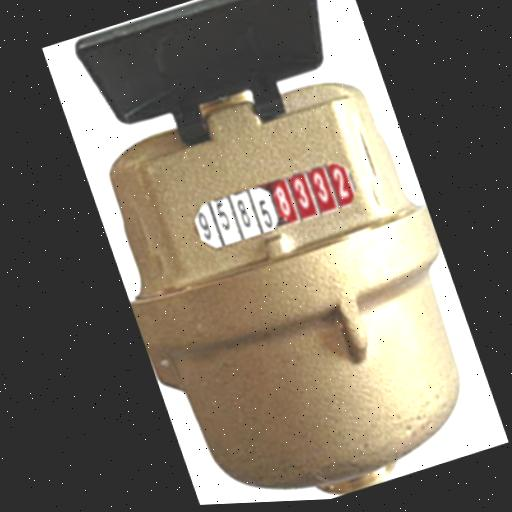2: (326, 158, 361, 207)
3: (306, 165, 338, 214), (288, 170, 318, 219)
5: (249, 182, 282, 233), (210, 195, 243, 244)
8: (228, 189, 261, 239), (268, 175, 300, 226)
9: (188, 202, 221, 252)
border_water_meter_number: (184, 156, 365, 253)
